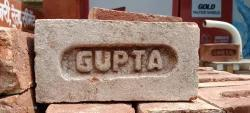brick: (35, 19, 199, 103)
